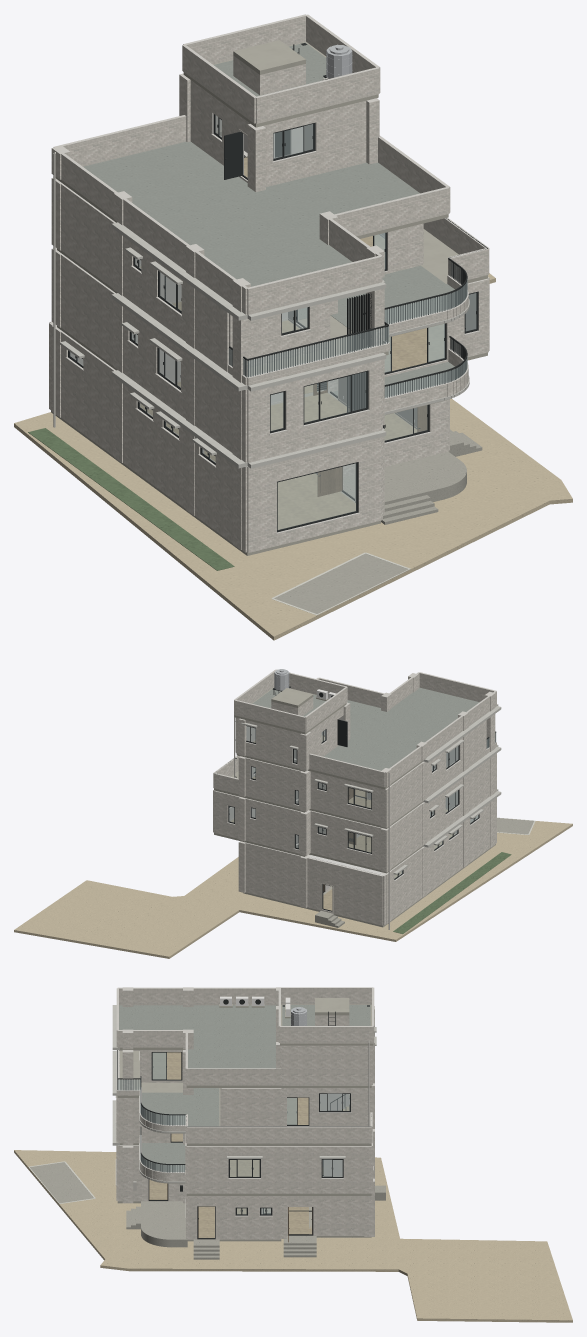
The model's file is house.glb.
The picture shows the model from 3 angles, top to bottom: view 1: azimuth 30°, elevation 25°; view 2: azimuth 150°, elevation 25°; view 3: azimuth 270°, elevation 25°; orthographic projection. The views are drawn at different scales.
Parts seen in each view (by area): view 1: SITE_site_ground, FLOOR_4_floor_finish_terrace, FLOOR_1_wall_facade, FLOOR_2_wall_facade, FLOOR_4_parapet_facade, FLOOR_3_wall_facade, ROOF_parapet_facade, SITE_site_porch, FLOOR_4_wall_facade, FLOOR_1_window_glass, FLOOR_3_railing_metal, FLOOR_4_column_facade (+35 smaller); view 2: SITE_site_ground, FLOOR_1_wall_facade, FLOOR_2_wall_facade, FLOOR_3_wall_facade, FLOOR_4_floor_finish_terrace, FLOOR_4_parapet_facade, ROOF_parapet_facade, FLOOR_4_wall_facade, FLOOR_2_column_facade, FLOOR_3_column_facade, FLOOR_1_column_facade, FLOOR_4_column_facade (+23 smaller); view 3: SITE_site_ground, FLOOR_2_wall_facade, FLOOR_4_floor_finish_terrace, FLOOR_1_wall_facade, SITE_site_porch, FLOOR_3_wall_facade, FLOOR_4_parapet_facade, FLOOR_4_wall_facade, FLOOR_3_parapet_facade, ROOF_parapet_facade, FLOOR_3_floor_finish_terrace, FLOOR_3_slab_slab (+25 smaller).
Boxes of the visible parts, bbox=[...] form: SITE_site_ground: bbox=[14, 273, 572, 640]; FLOOR_4_floor_finish_terrace: bbox=[83, 141, 419, 286]; FLOOR_1_wall_facade: bbox=[49, 322, 449, 552]; FLOOR_2_wall_facade: bbox=[61, 255, 489, 462]; FLOOR_4_parapet_facade: bbox=[53, 116, 450, 314]; FLOOR_3_wall_facade: bbox=[61, 184, 423, 371]; ROOF_parapet_facade: bbox=[182, 16, 380, 123]; SITE_site_porch: bbox=[274, 429, 482, 615]; FLOOR_4_wall_facade: bbox=[190, 80, 377, 186]; FLOOR_1_window_glass: bbox=[70, 352, 427, 529]; FLOOR_3_railing_metal: bbox=[229, 218, 487, 377]; FLOOR_4_column_facade: bbox=[51, 75, 384, 311]; SITE_site_ground: bbox=[14, 821, 572, 958]; FLOOR_1_wall_facade: bbox=[245, 798, 496, 925]; FLOOR_2_wall_facade: bbox=[213, 753, 496, 869]; FLOOR_3_wall_facade: bbox=[245, 720, 486, 825]; FLOOR_4_floor_finish_terrace: bbox=[323, 687, 479, 770]; FLOOR_4_parapet_facade: bbox=[235, 673, 496, 787]; ROOF_parapet_facade: bbox=[234, 672, 347, 732]; FLOOR_4_wall_facade: bbox=[235, 707, 343, 768]; FLOOR_2_column_facade: bbox=[238, 755, 495, 872]; FLOOR_3_column_facade: bbox=[238, 714, 495, 827]; FLOOR_1_column_facade: bbox=[238, 799, 495, 923]; FLOOR_4_column_facade: bbox=[238, 674, 495, 787]; SITE_site_ground: bbox=[14, 1150, 572, 1322]; FLOOR_2_wall_facade: bbox=[116, 1095, 372, 1193]; FLOOR_4_floor_finish_terrace: bbox=[119, 1005, 275, 1068]; FLOOR_1_wall_facade: bbox=[116, 1145, 364, 1239]; SITE_site_porch: bbox=[30, 1162, 385, 1259]; FLOOR_3_wall_facade: bbox=[140, 1050, 364, 1126]; FLOOR_4_parapet_facade: bbox=[116, 988, 281, 1085]; FLOOR_4_wall_facade: bbox=[280, 1045, 372, 1085]; FLOOR_3_parapet_facade: bbox=[116, 1050, 372, 1143]; ROOF_parapet_facade: bbox=[278, 988, 374, 1043]; FLOOR_3_floor_finish_terrace: bbox=[142, 1088, 219, 1126]; FLOOR_3_slab_slab: bbox=[117, 1051, 371, 1145].
Bounding box in the file's own units: 26.38 × 16.92 × 36.59.
Materials: 24 (14 with a texture image).
